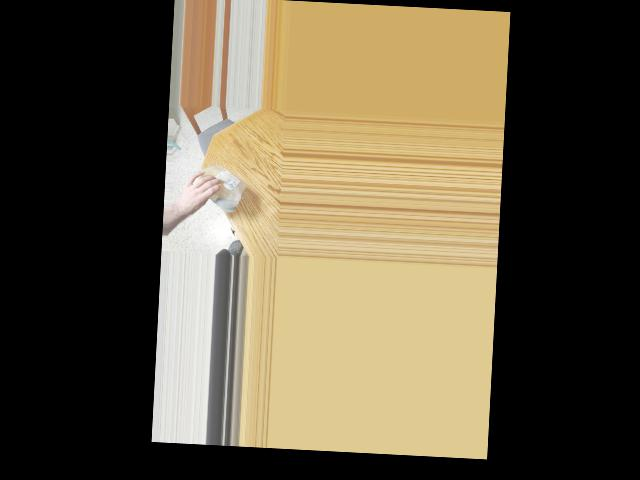cheese: (188, 161, 245, 210)
